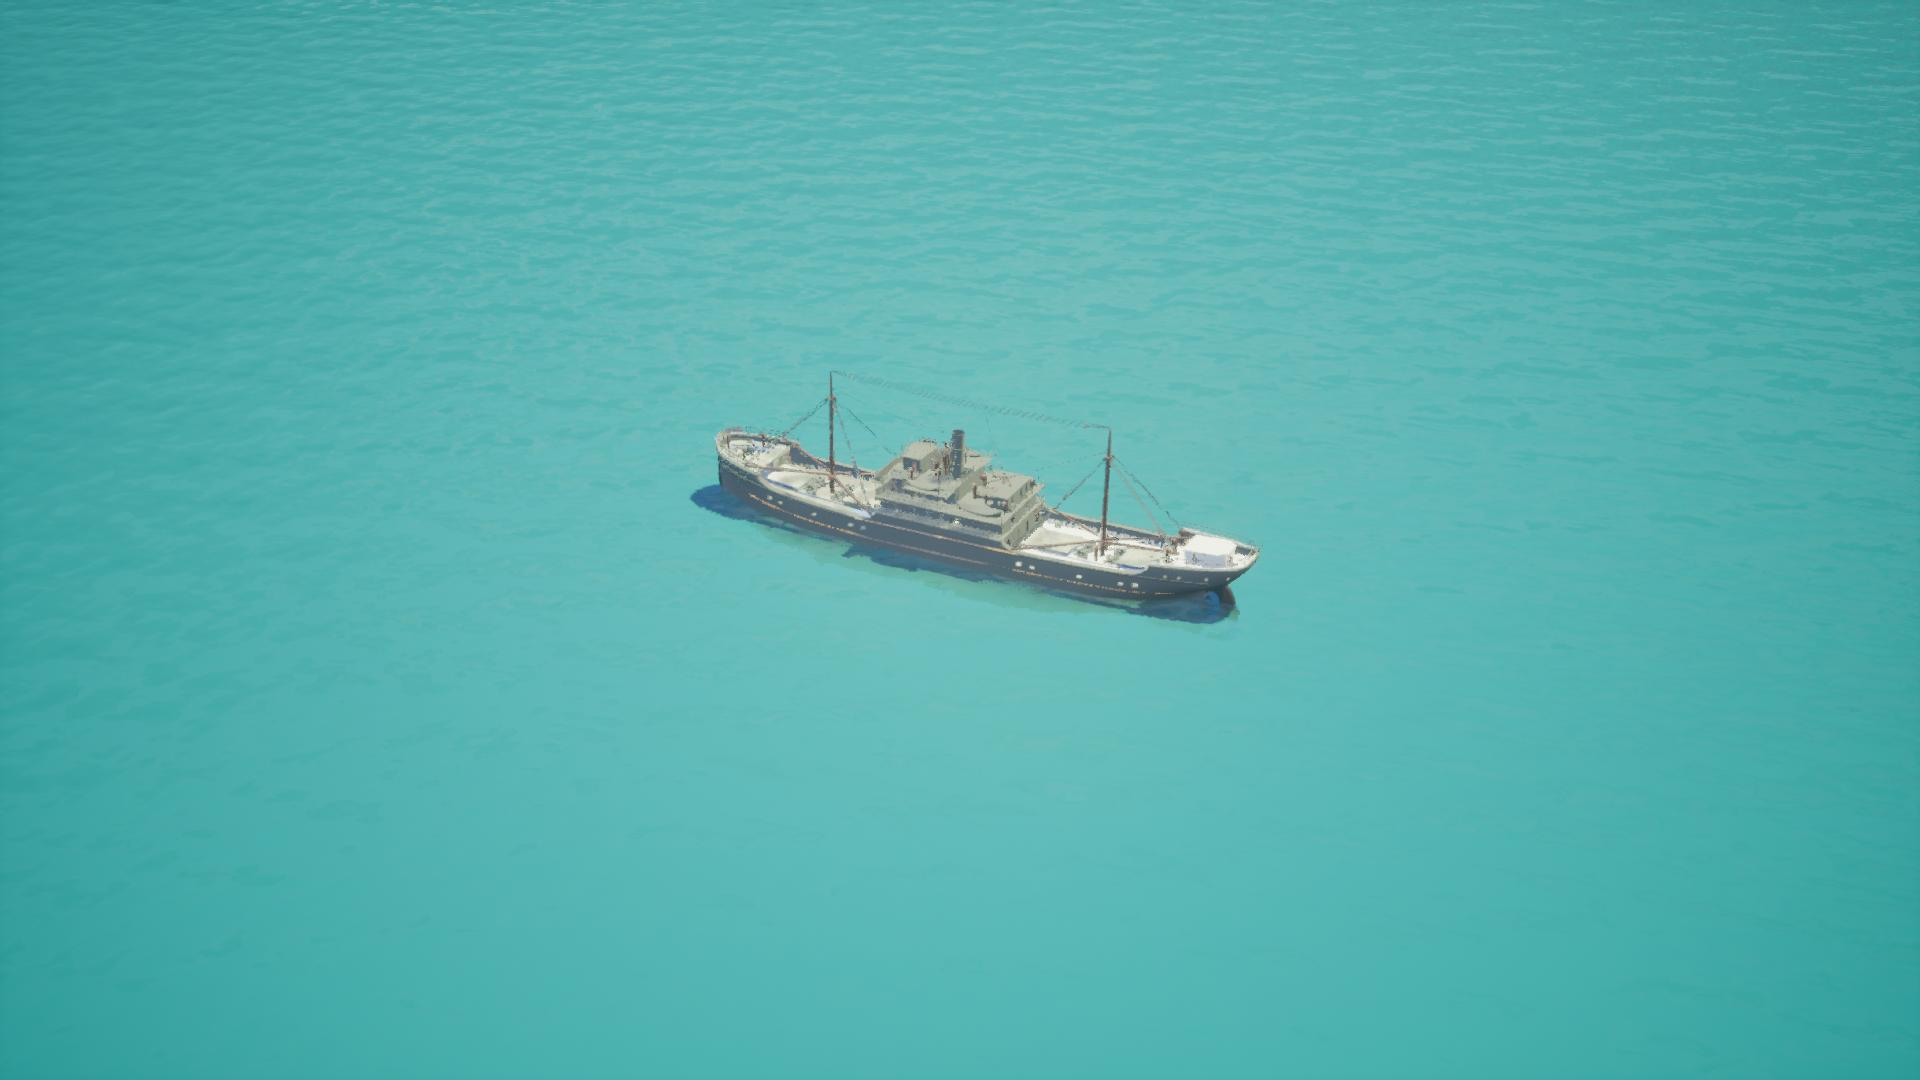Fishing Boat: (704, 396, 1247, 624)
